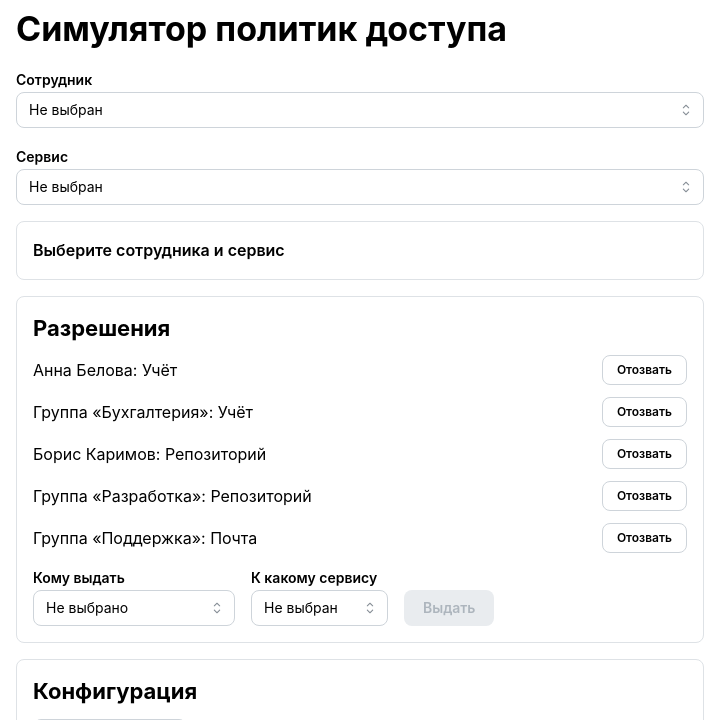
Test: редактирование разрешений › отзыв одного разрешения сохраняет независимый источник доступа
Click the button with test id "permission-remove-p1" at [644, 370], box [602, 355, 687, 385]
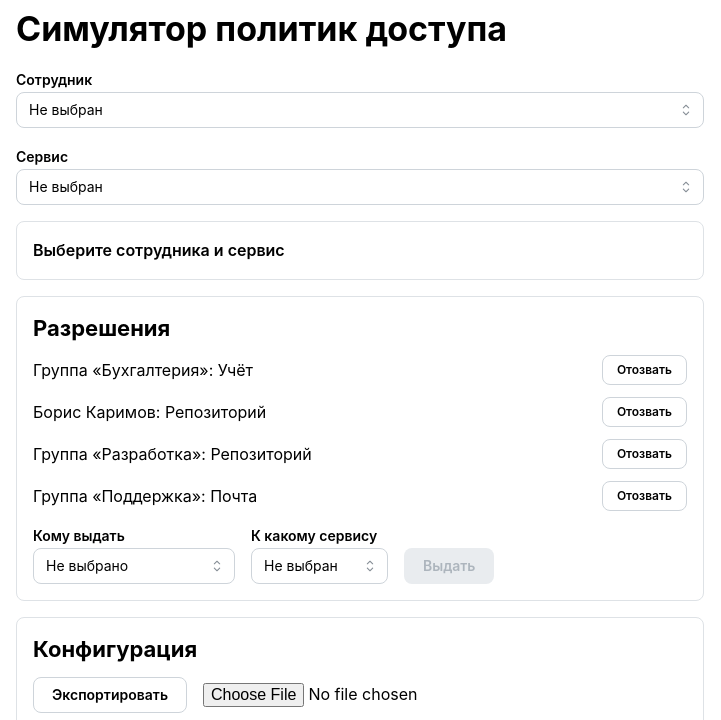
Select "Анна Белова" in the dropdown with test id "user-select" at [360, 110], box [16, 92, 704, 128]
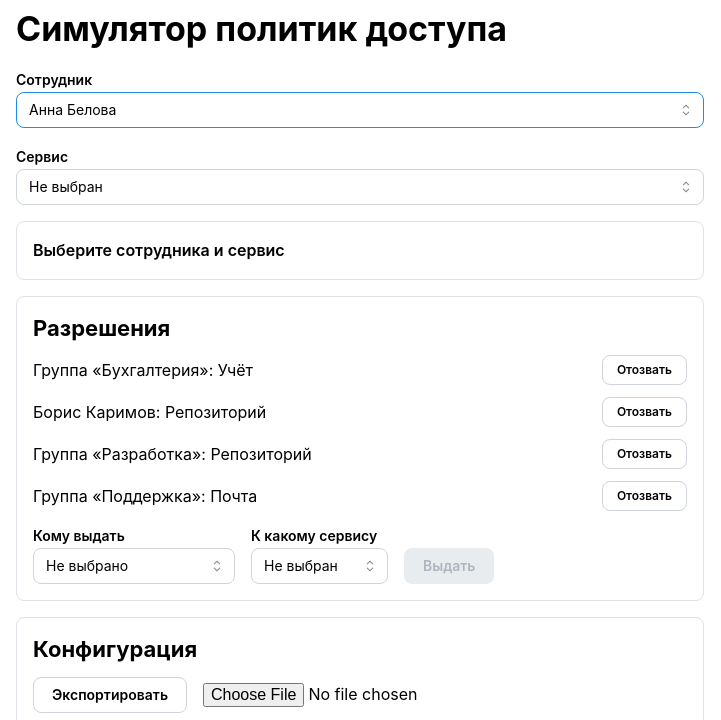
Select "Учёт" in the dropdown with test id "service-select" at [360, 187], box [16, 169, 704, 205]
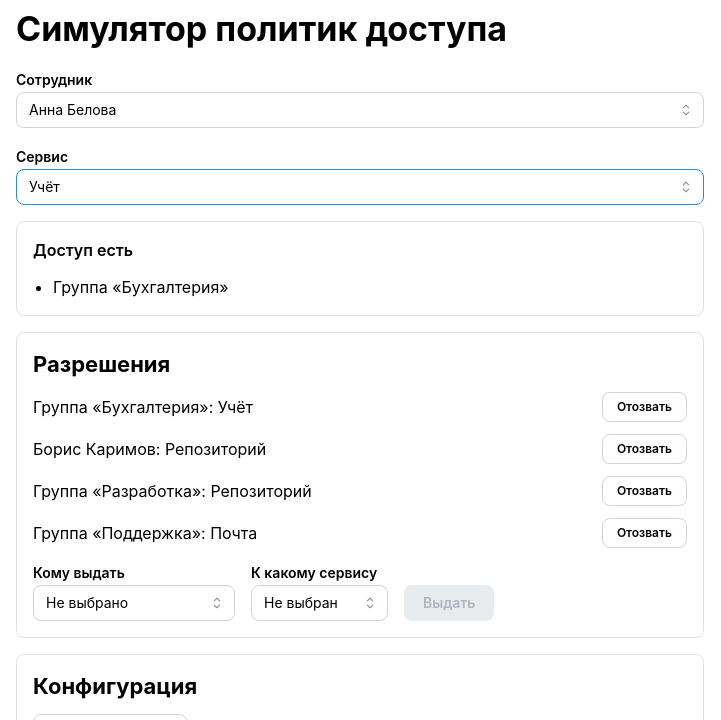
Check: the list with test id "access-sources" does not show "Прямое разрешение", box [53, 277, 229, 297]
Check: the text with test id "access-result" reads "Доступ есть", box [33, 240, 133, 260]
Check: the list with test id "access-sources" reads "Группа «Бухгалтерия»", box [53, 277, 229, 297]
